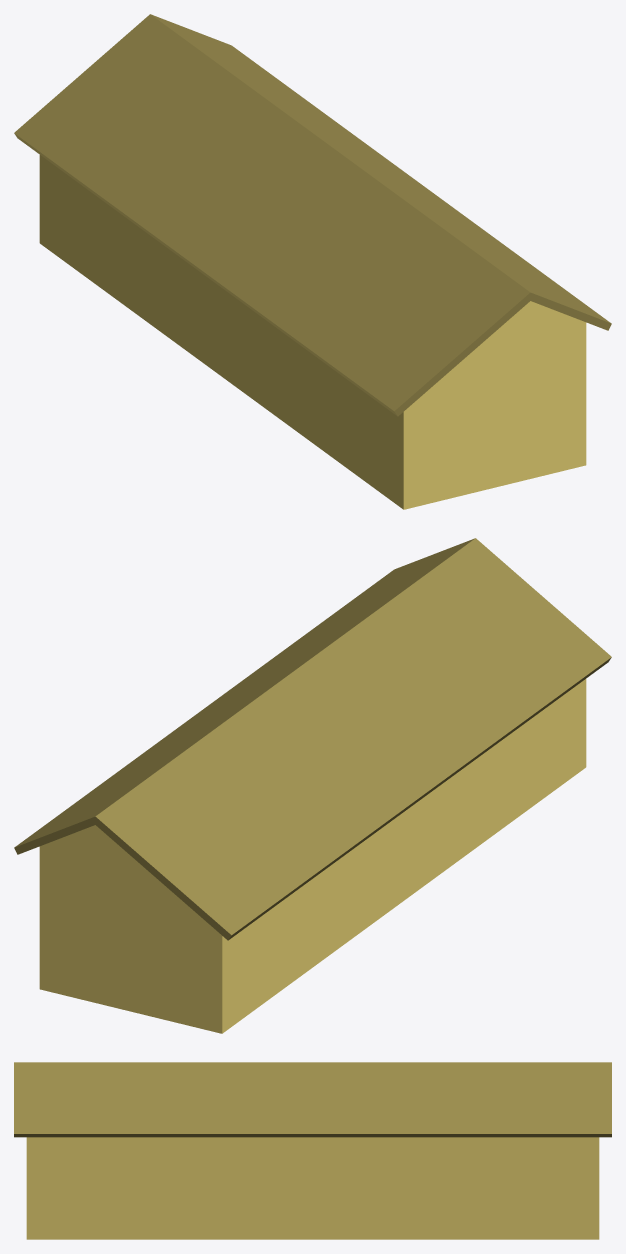
File: result.glb
3 views of the same model, one above another, from view 1: azimuth 30°, elevation 25°; view 2: azimuth 150°, elevation 25°; view 3: azimuth 270°, elevation 25° (orthographic). The views are drawn at different scales.
Visible parts, largest first — view 1: 0636523b-7f50-4e53-b945-d4edb0cdcfc7__undefined (×2), 610795e1-5d64-4042-953d-2513ca212e18__undefined; view 2: 0636523b-7f50-4e53-b945-d4edb0cdcfc7__undefined (×2), 610795e1-5d64-4042-953d-2513ca212e18__undefined; view 3: 610795e1-5d64-4042-953d-2513ca212e18__undefined, 0636523b-7f50-4e53-b945-d4edb0cdcfc7__undefined.
Boxes of the visible parts, left/top/right/bottom form: 0636523b-7f50-4e53-b945-d4edb0cdcfc7__undefined (×2): left=14, top=14, right=611, bottom=416; 610795e1-5d64-4042-953d-2513ca212e18__undefined: left=39, top=155, right=586, bottom=509; 0636523b-7f50-4e53-b945-d4edb0cdcfc7__undefined (×2): left=14, top=538, right=611, bottom=940; 610795e1-5d64-4042-953d-2513ca212e18__undefined: left=39, top=679, right=586, bottom=1033; 610795e1-5d64-4042-953d-2513ca212e18__undefined: left=26, top=1137, right=599, bottom=1239; 0636523b-7f50-4e53-b945-d4edb0cdcfc7__undefined: left=14, top=1062, right=611, bottom=1137.
Size of the model in its own units: 782 by 667 by 2366.
